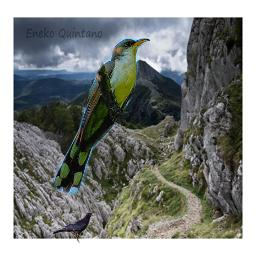Crow: (52, 212, 96, 244)
Cuckoo: (54, 38, 150, 195)
